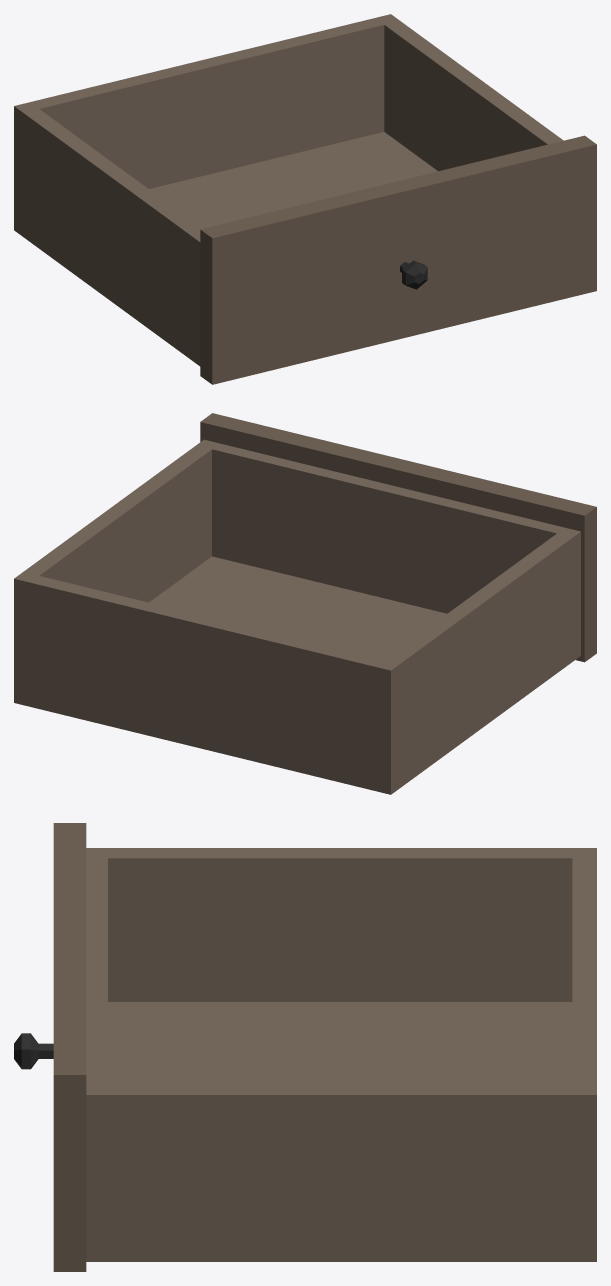
Rendered from BedTable3_C1_02.fbx.
The picture shows the model from 3 angles, top to bottom: view 1: azimuth 30°, elevation 25°; view 2: azimuth 150°, elevation 25°; view 3: azimuth 270°, elevation 25°; orthographic projection. The views are drawn at different scales.
Visible parts, largest first — view 1: BedTable3_C1_02; view 2: BedTable3_C1_02; view 3: BedTable3_C1_02.
Boxes of the visible parts, <box> form: BedTable3_C1_02: <box>14,14,596,384</box>; BedTable3_C1_02: <box>14,413,596,794</box>; BedTable3_C1_02: <box>14,823,596,1271</box>.
Bounding box in the file's own units: 36.44 × 13.27 × 35.61.
